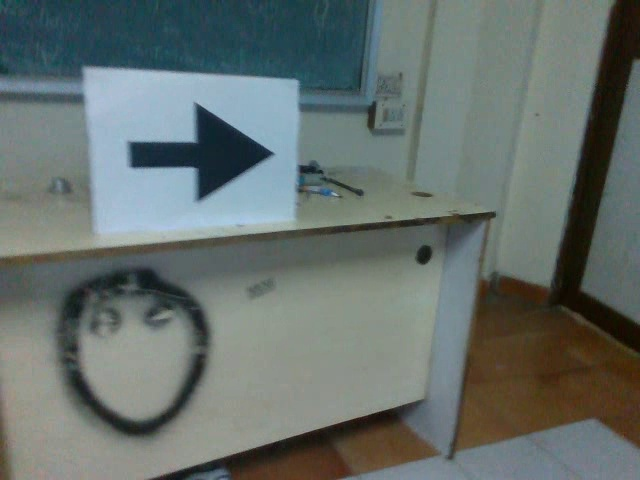Right: (118, 91, 279, 208)
